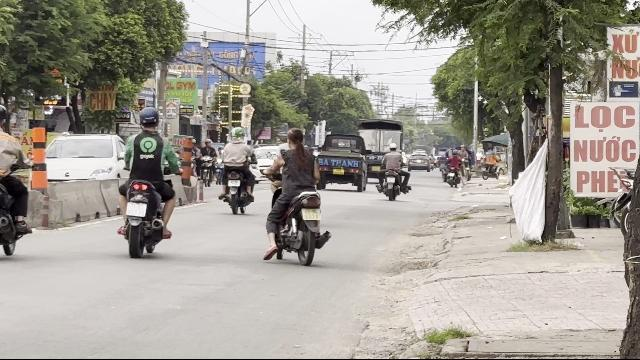helmet: (138, 106, 160, 130)
licenseplate: (125, 202, 146, 218), (303, 209, 321, 219)
motorcyclist: (113, 103, 177, 256), (262, 126, 331, 266)
nohelmet: (287, 128, 305, 150)
